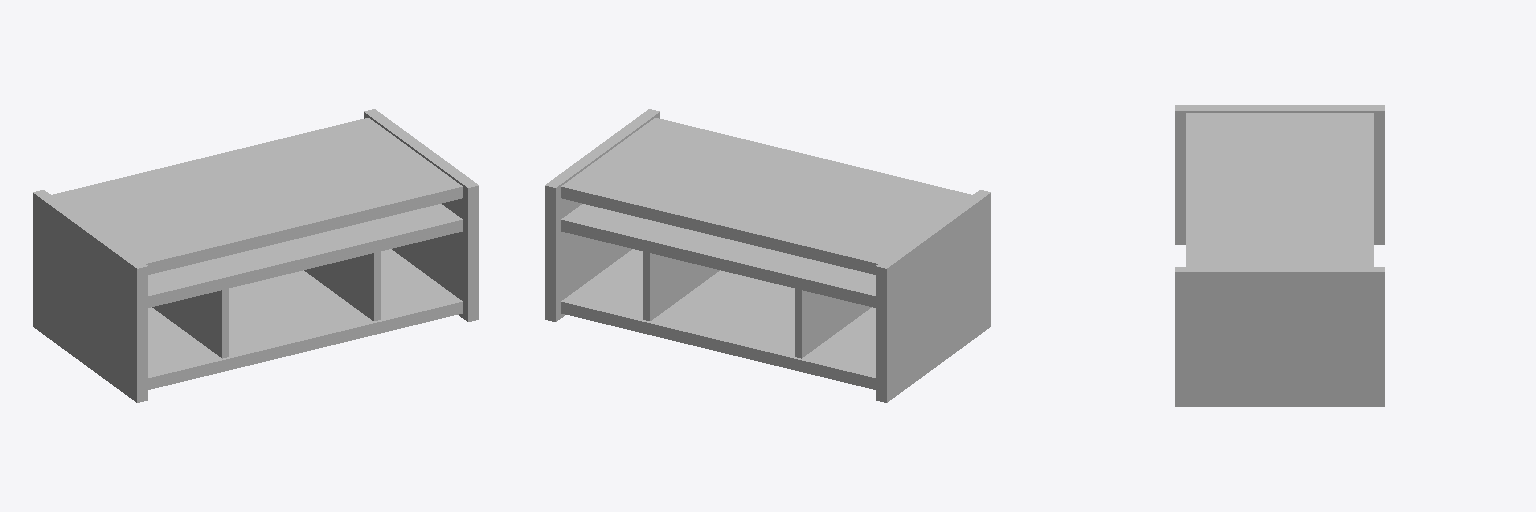
Rendered from Shelf_Small2.obj.
3 views of the same model, side by side, from view 1: azimuth 30°, elevation 25°; view 2: azimuth 150°, elevation 25°; view 3: azimuth 270°, elevation 25° (orthographic).
Visible parts, largest first — view 1: Shelf_Small2; view 2: Shelf_Small2; view 3: Shelf_Small2.
Boxes of the visible parts, box(x1,y1,x2,y2) form: Shelf_Small2: box(33, 109, 478, 402); Shelf_Small2: box(545, 109, 990, 402); Shelf_Small2: box(1175, 105, 1384, 406).
Size of the model in its own units: 1.04 by 0.3898 by 0.5504.